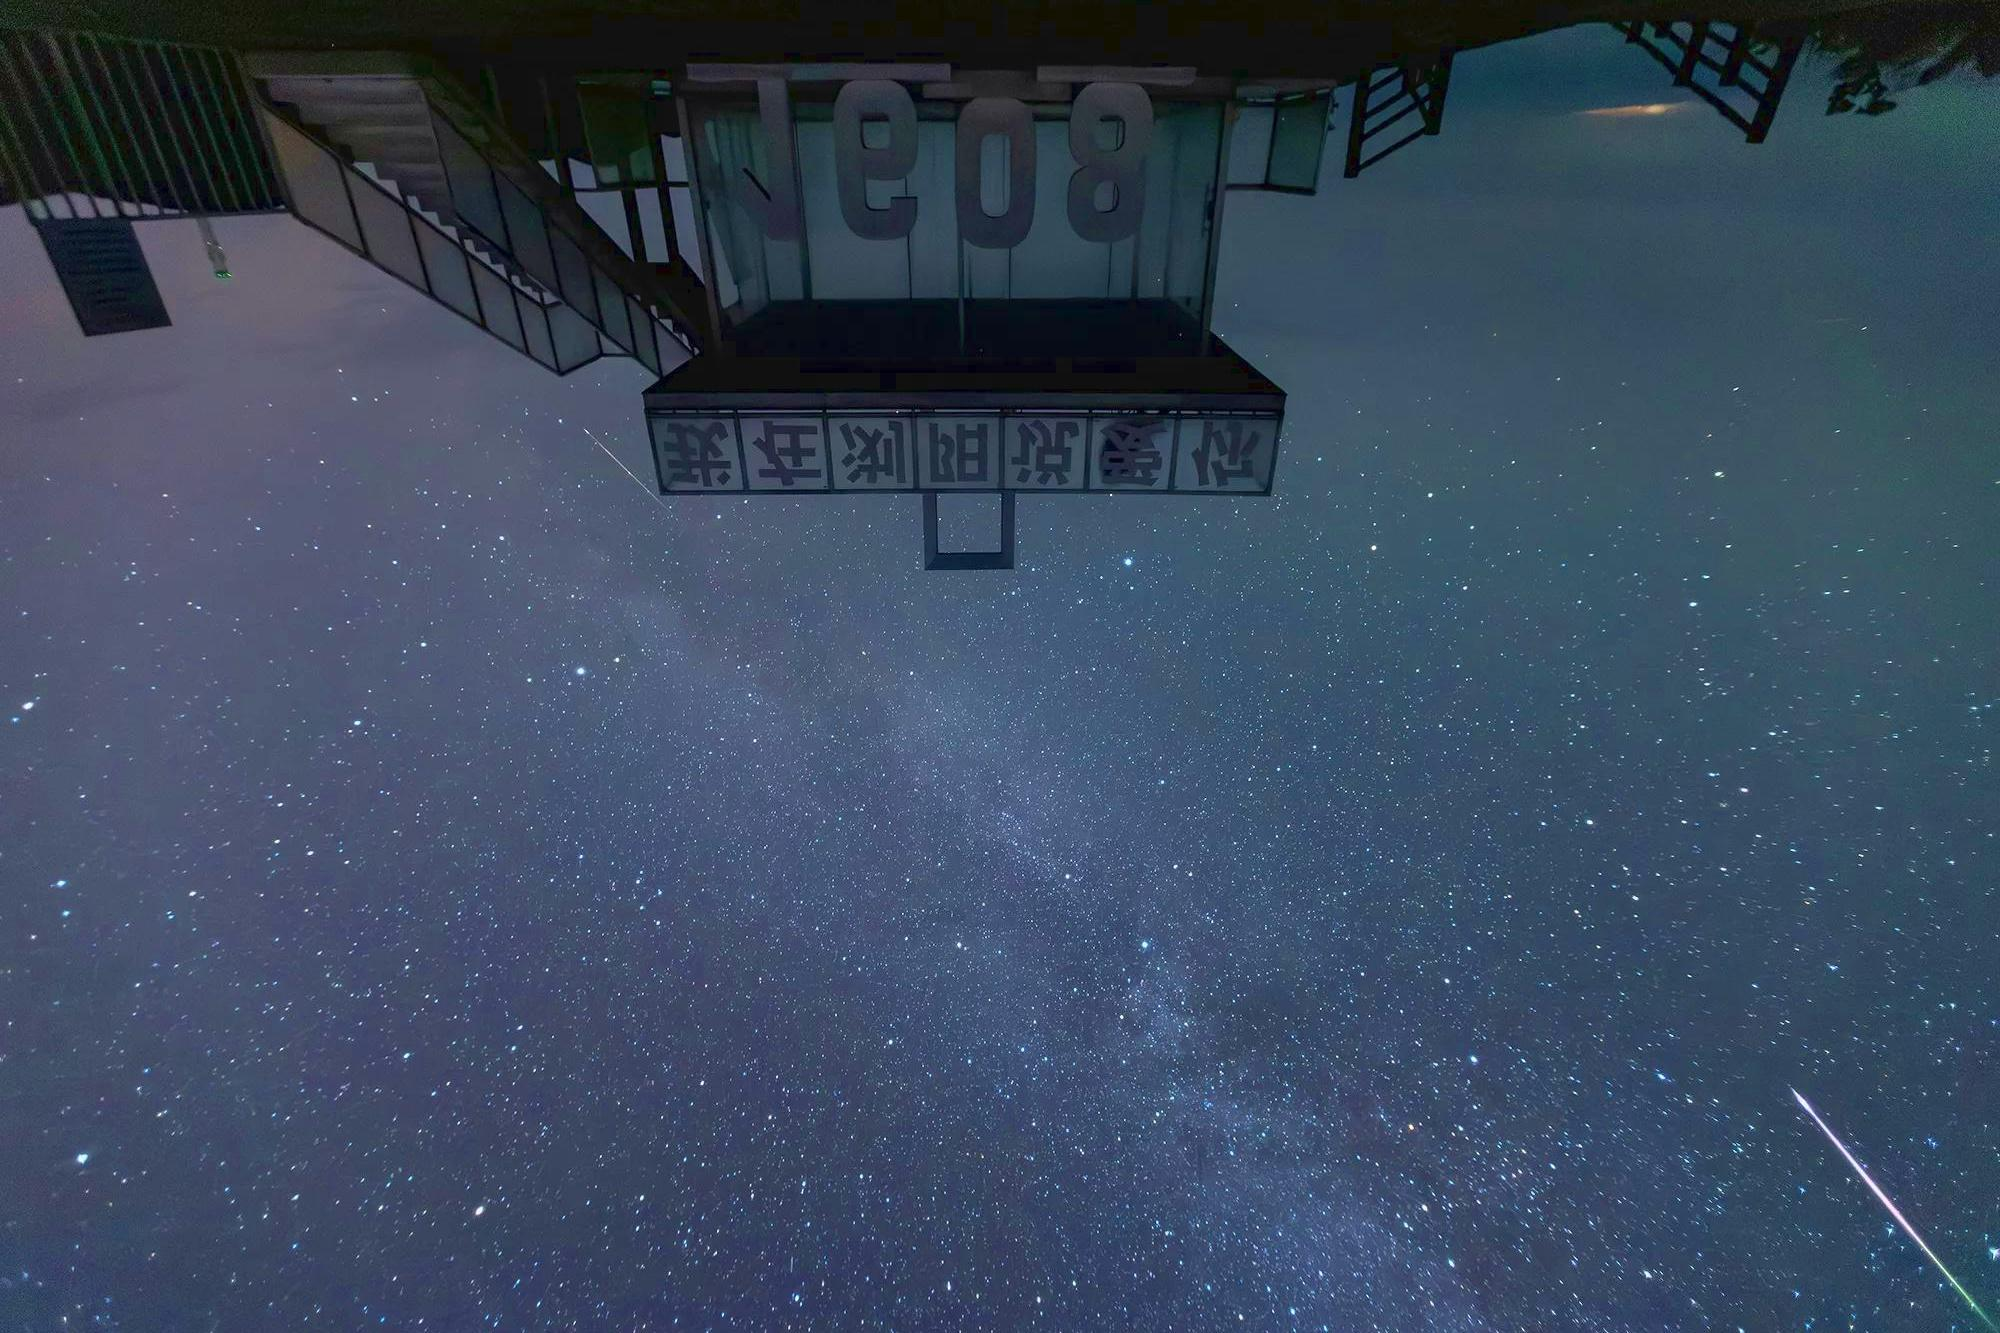meteorite: (1761, 1064, 1996, 1329), (565, 423, 653, 519)
